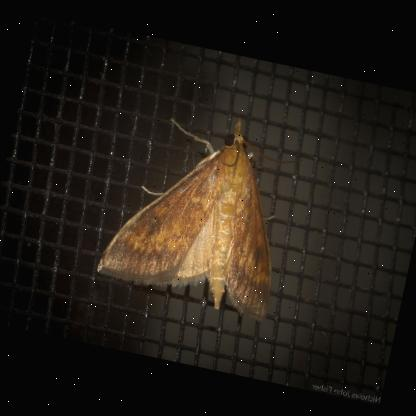Asian Corn Borer Moth: (90, 89, 309, 325)
